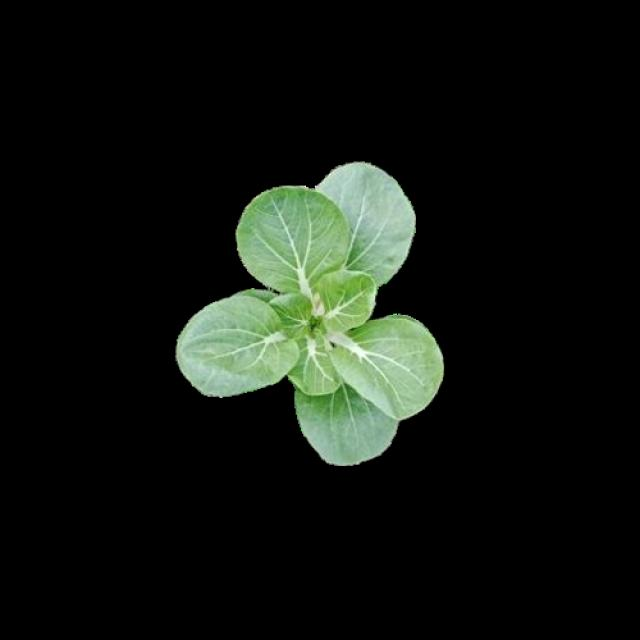healthy: (176, 158, 442, 462)
not-mature: (176, 160, 442, 465)
